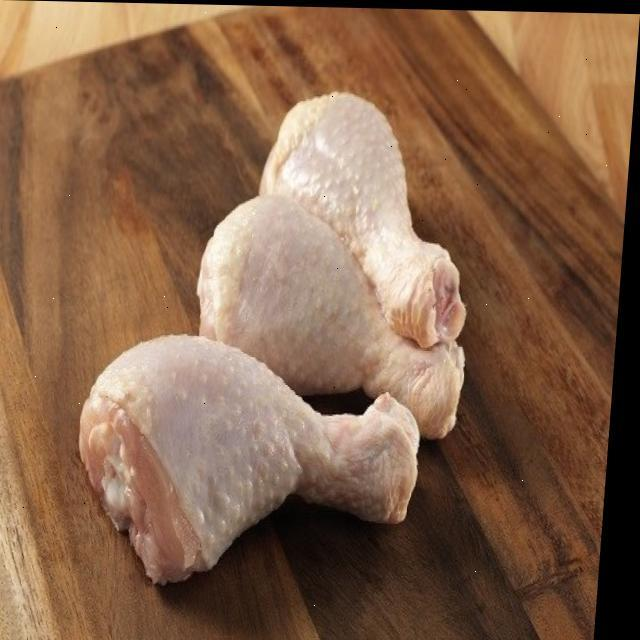leg: (74, 323, 436, 579), (186, 186, 479, 429), (250, 80, 486, 342)
